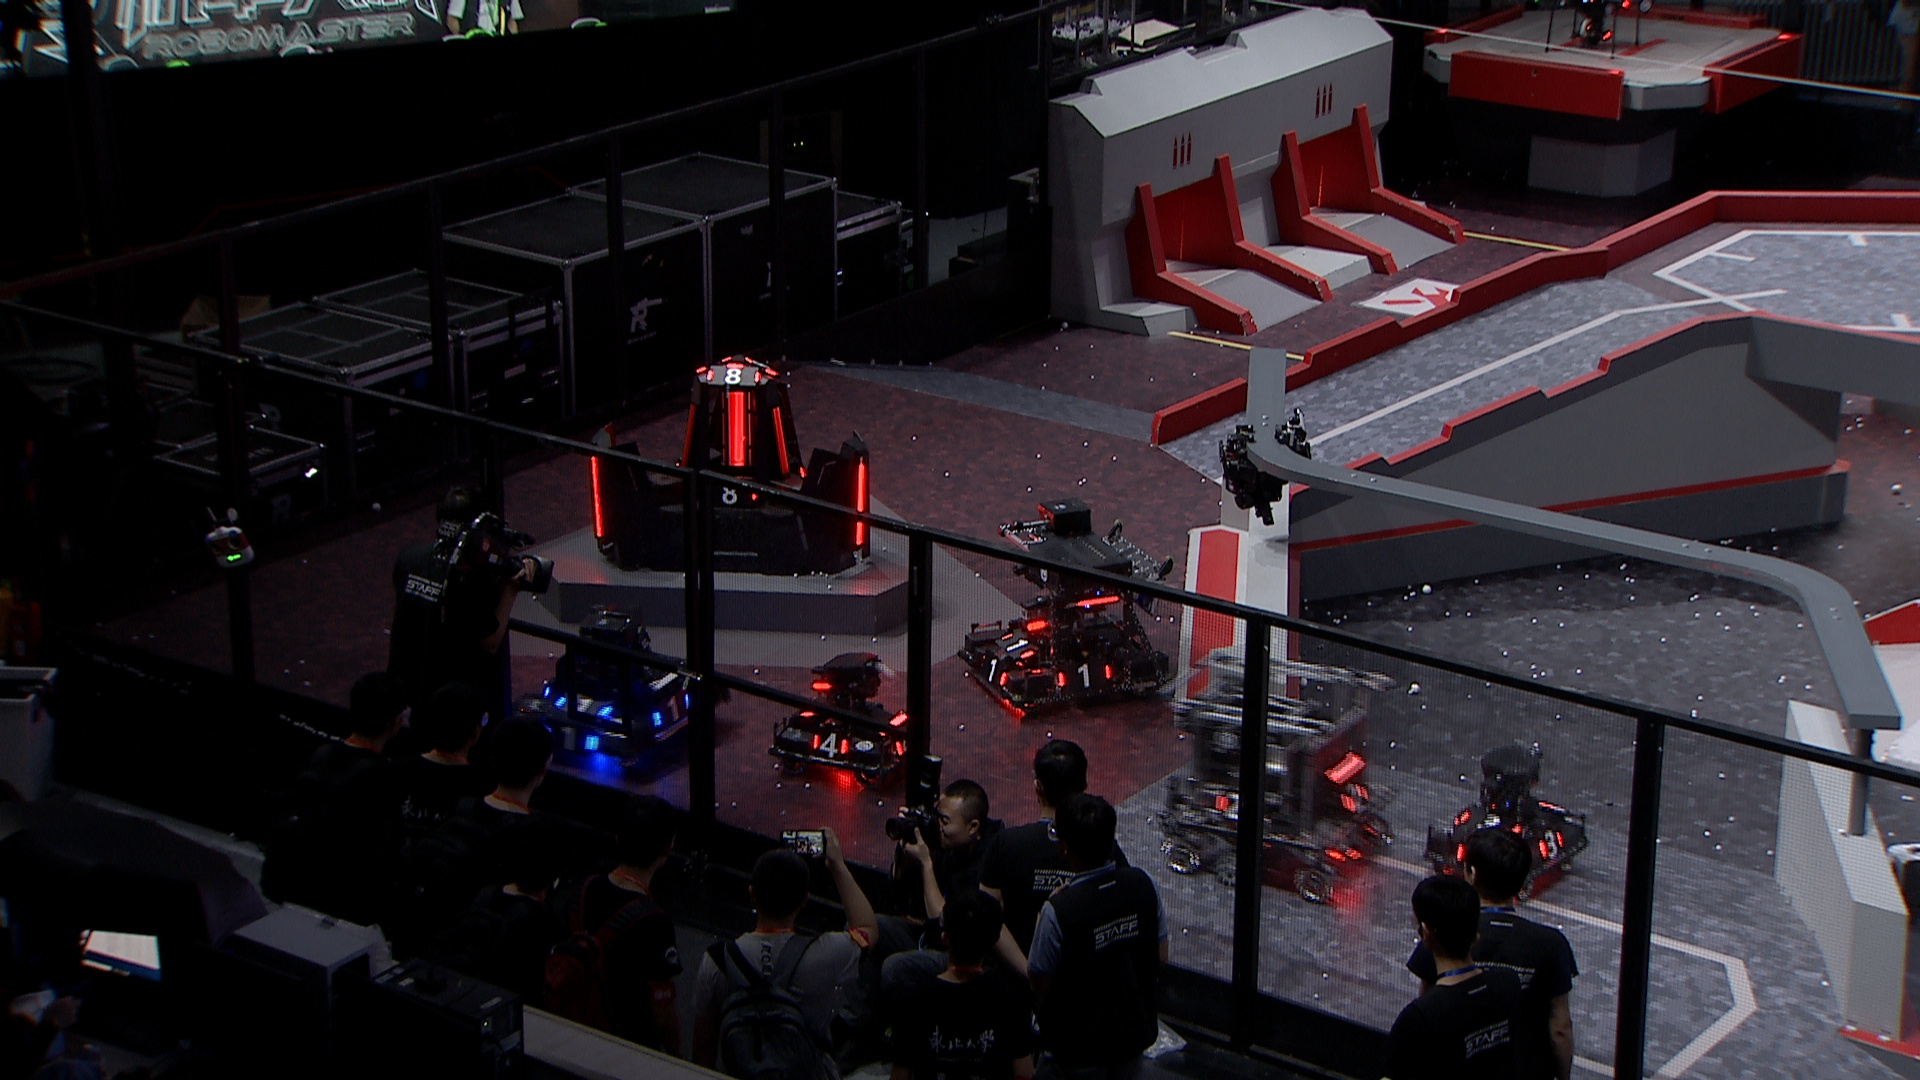armor: (721, 390, 754, 471), (767, 407, 796, 475), (542, 721, 604, 752), (1054, 661, 1114, 690), (555, 692, 621, 717), (1457, 812, 1524, 836), (589, 455, 608, 541), (676, 404, 700, 469), (855, 463, 872, 546), (704, 363, 764, 386), (997, 628, 1036, 662), (651, 694, 692, 727), (807, 731, 852, 760), (978, 655, 1011, 692), (1212, 790, 1247, 822), (713, 484, 761, 508), (1340, 783, 1371, 812), (1536, 831, 1565, 861)
base: (578, 353, 880, 575)
car: (1150, 642, 1399, 899), (953, 495, 1174, 723), (518, 607, 728, 770), (1422, 740, 1598, 907), (765, 651, 923, 789)
watcher: (1220, 405, 1315, 526)
